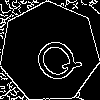Q: (24, 27, 85, 89)
